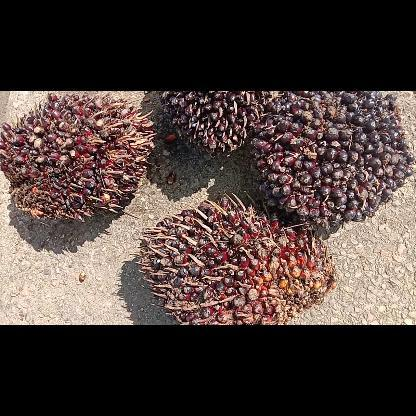TBS mentah: (130, 192, 336, 324), (250, 91, 414, 229), (0, 92, 156, 222), (160, 90, 271, 158)
